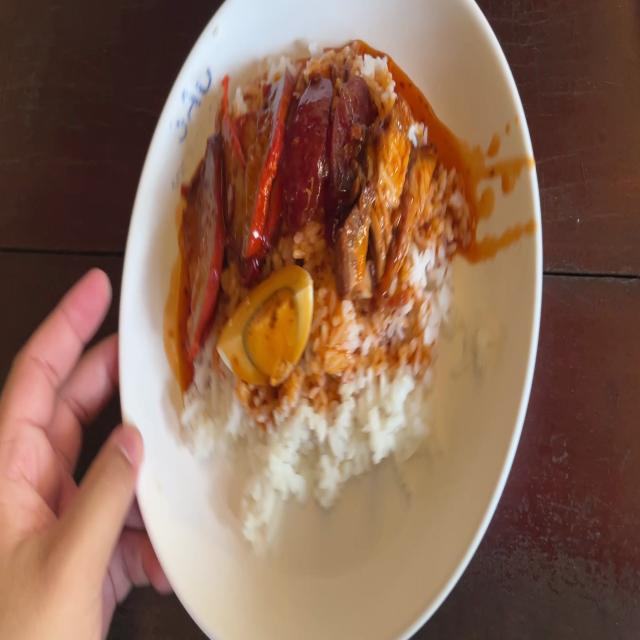red_pork_and_crispy_pork: (228, 270, 311, 374)
stir_fried_basil: (289, 81, 365, 227)
